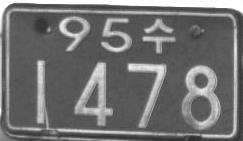1: (21, 60, 58, 122)
4: (73, 60, 113, 125)
5: (100, 17, 133, 53)
7: (127, 62, 166, 128)
8: (180, 63, 221, 132)
9: (58, 15, 90, 51)
수: (141, 17, 176, 53)
